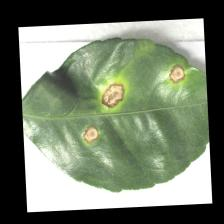canker: (69, 40, 194, 152)
